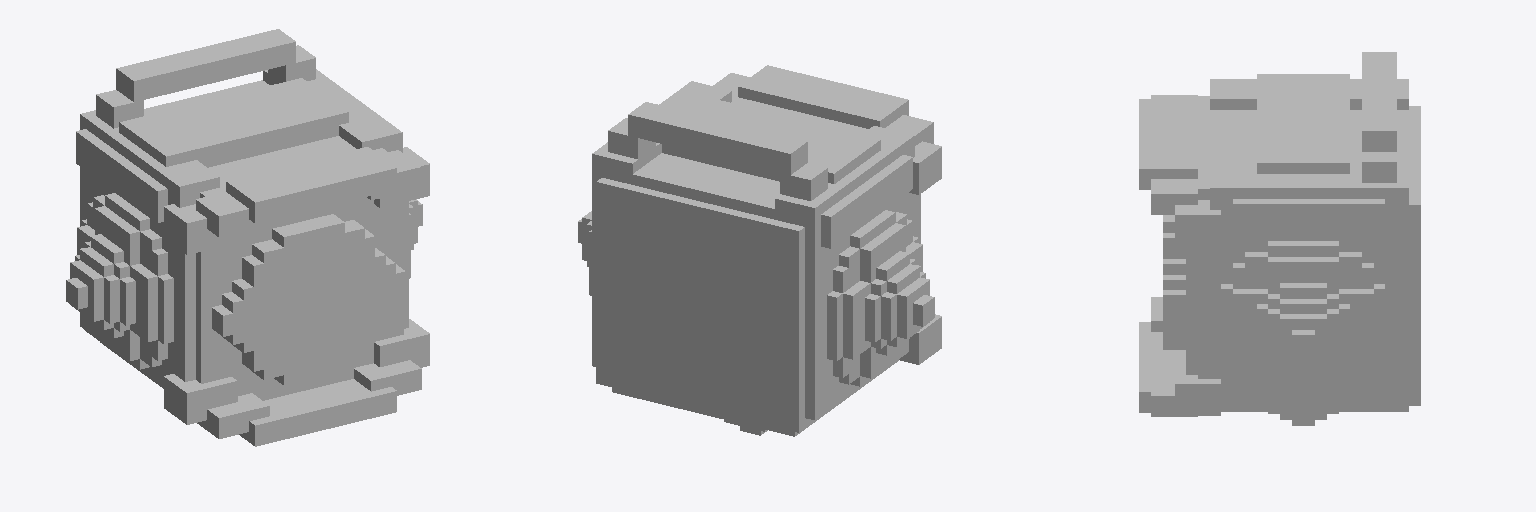
File: Retro Enemy 1.1.obj
3 views of the same model, side by side, from view 1: azimuth 30°, elevation 25°; view 2: azimuth 150°, elevation 25°; view 3: azimuth 270°, elevation 25° (orthographic).
Parts seen in each view (by area): view 1: object 1; view 2: object 1; view 3: object 1.
Boxes of the visible parts, box(x1,y1,x2,y2) form: object 1: box(66, 29, 429, 446); object 1: box(578, 65, 941, 436); object 1: box(1139, 52, 1420, 425).
Bounding box in the file's own units: 3.4 × 3.1 × 2.4.